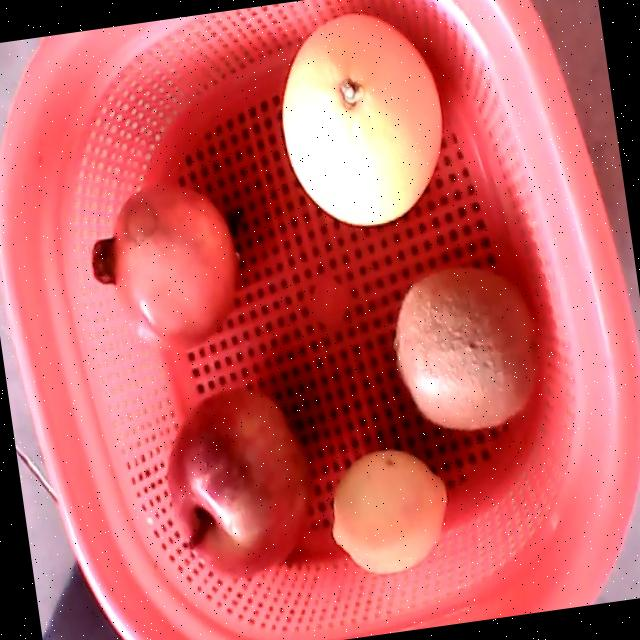apple: (169, 389, 313, 580)
kiwi: (393, 264, 540, 432)
lemon: (330, 450, 449, 575)
orange: (282, 11, 443, 224)
pomegranate: (90, 182, 236, 352)
